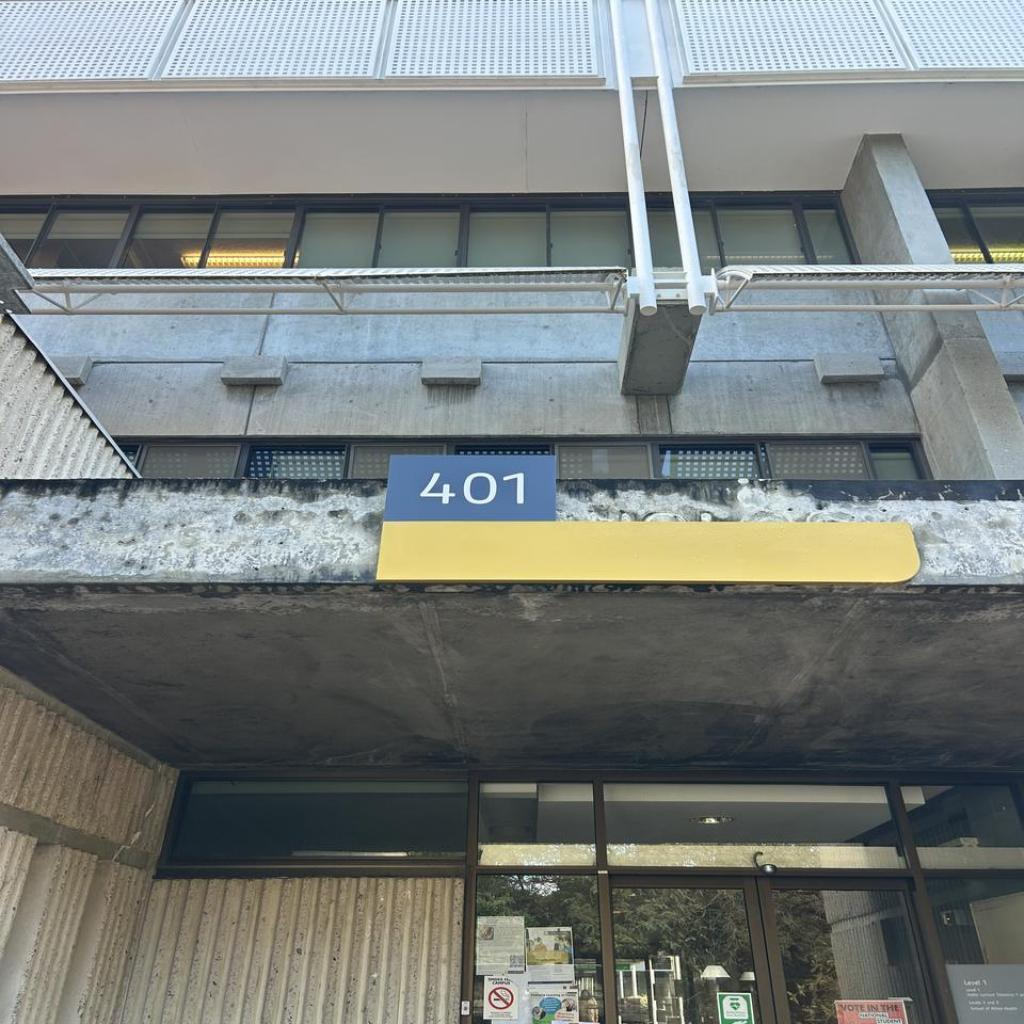BuildingCodes: (417, 469, 527, 507)
